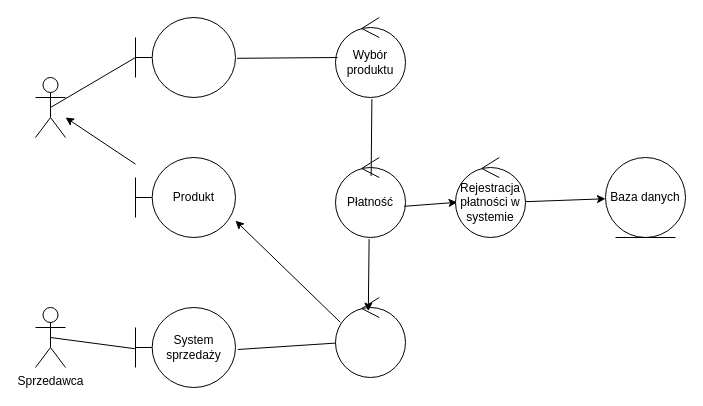
Some shapes in this 703 by 406 pixel diagram are drawn without their labels. Each missing label, with the box of its shape:
Klient: (34, 76, 66, 138)
Oferta sprzedaży: (134, 16, 236, 98)
Przygotowanie produktu: (334, 296, 406, 378)
